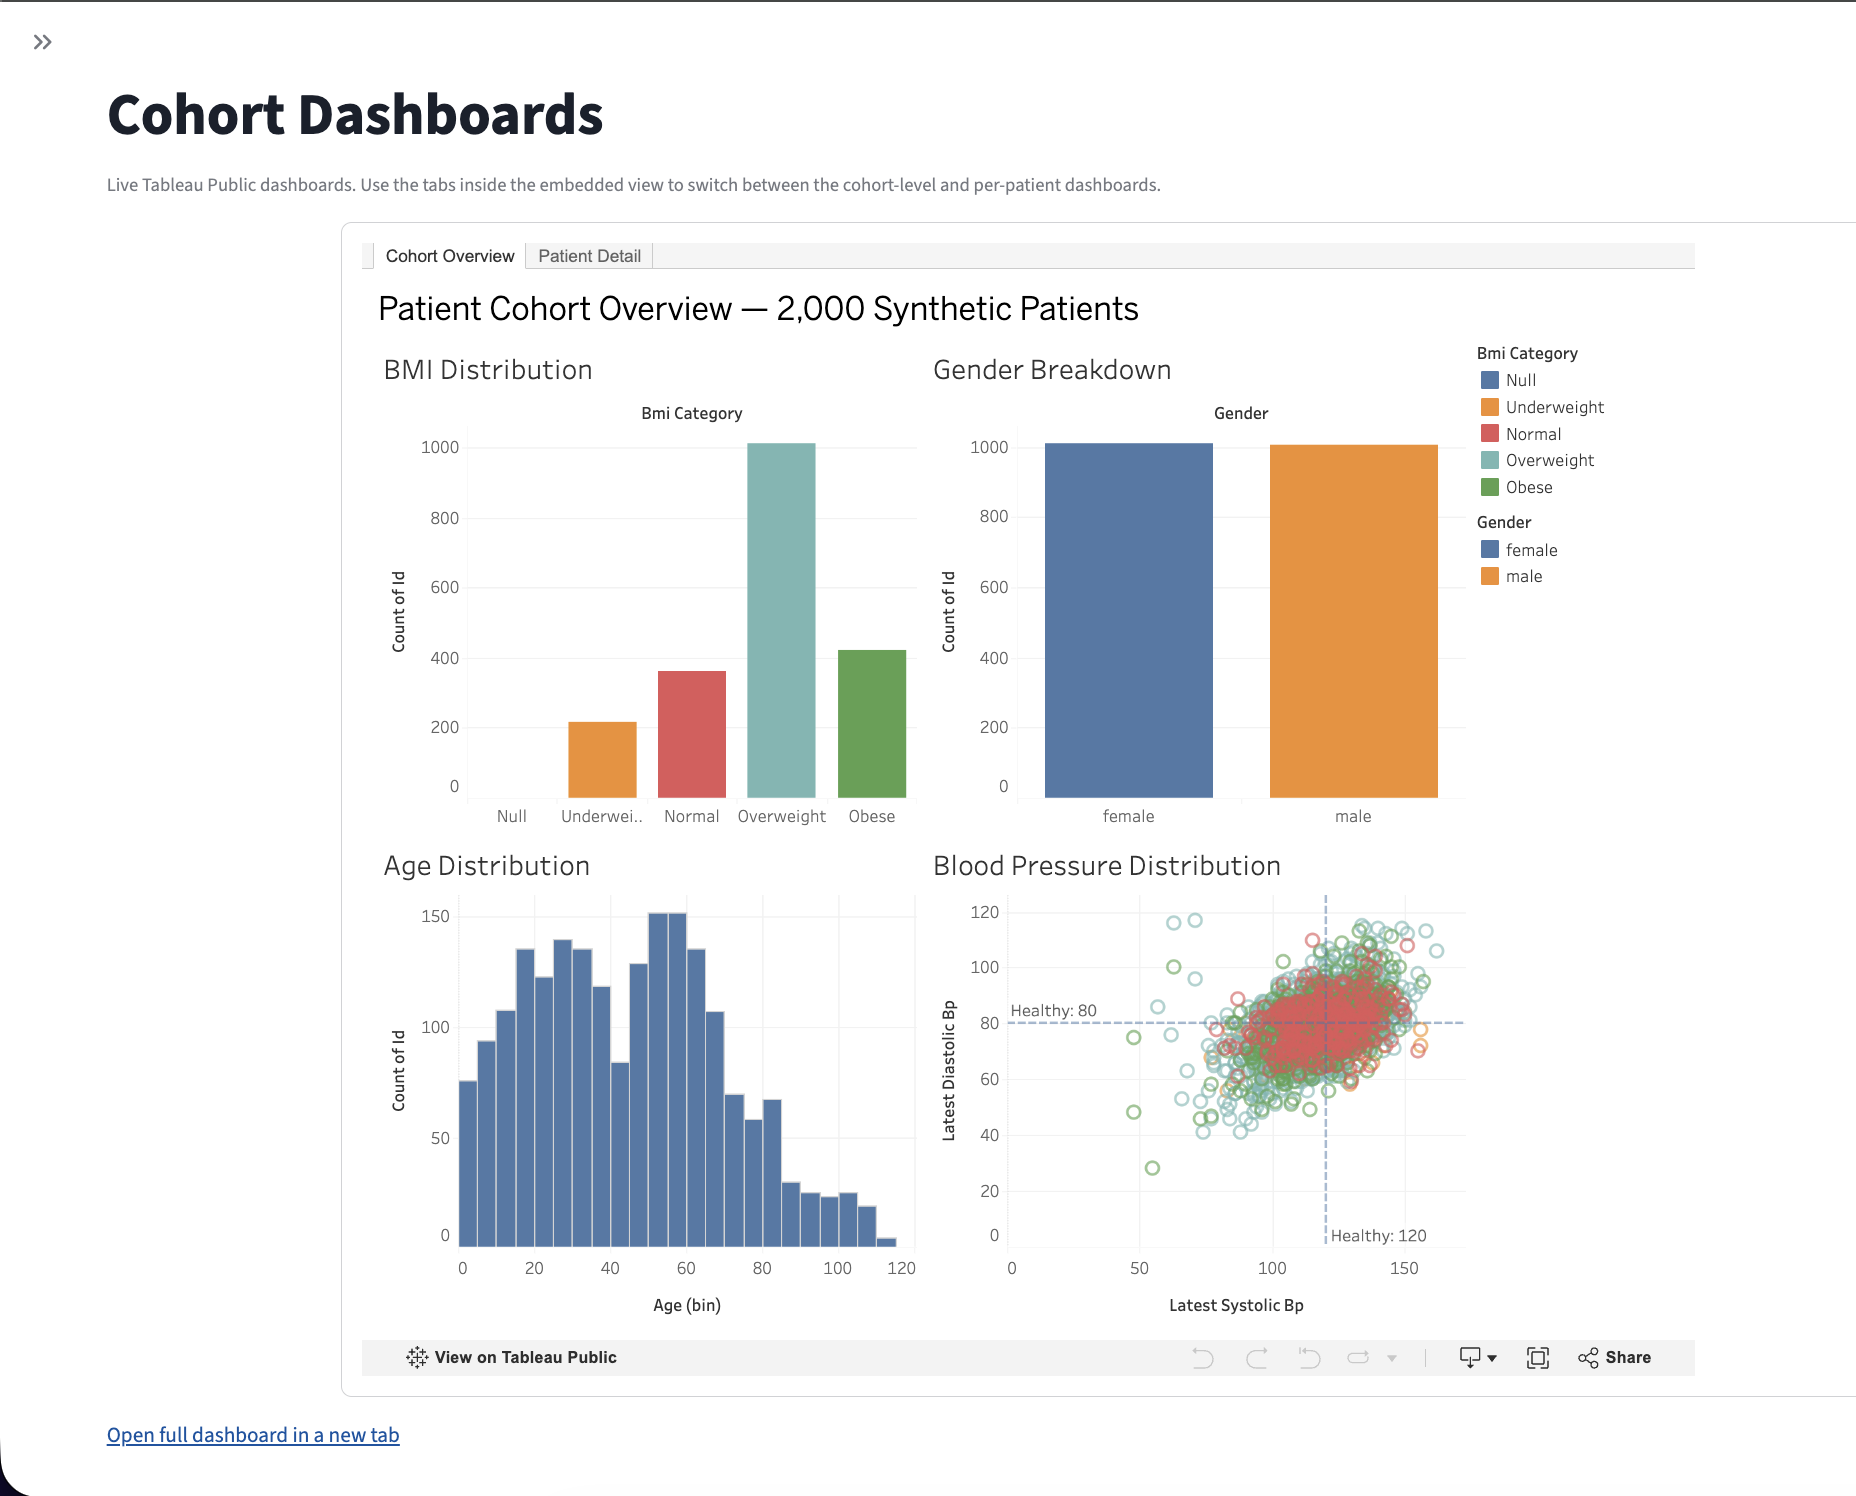

The page's visual inventory and layout, read from the dashboard file:
{"tool":"tableau","page":{"name":"Cohort Overview","canvas":[1000,800],"ordinal":0},"visuals":[{"type":"title","box":[8,8,984,39]},{"type":"worksheet","title":"BMI Distribution","mark":"Automatic","rows":["id"],"cols":["bmi_category"],"box":[8,47,412,372.5]},{"type":"worksheet","title":"Gender Breakdown","mark":"Automatic","rows":["id"],"cols":["gender"],"box":[420,47,412,372.5]},{"type":"legend","title":"BMI Distribution","param":"[federated.1u52m7l0v21mnk147jdbi1of3flw].[none:bmi_category:nk]","box":[832,47,160,126]},{"type":"legend","title":"Gender Breakdown","param":"[federated.1u52m7l0v21mnk147jdbi1of3flw].[none:gender:nk]","box":[832,173,160,66]},{"type":"worksheet","title":"Age Distribution","mark":"Automatic","rows":["id"],"cols":["Age (bin)"],"box":[8,419.5,412,372.5]},{"type":"worksheet","title":"Blood Pressure Distribution","mark":"Automatic","rows":["latest_diastolic_bp"],"cols":["latest_systolic_bp"],"box":[420,419.5,412,372.5]}]}

Visuals, with their boxes on the page's 1000x800 design canvas (x1, y1, x2, y2). These are canvas units, not pixel positions in the 1856x1496 screenshot, which may show the page scaled, cropped or inside an application window:
title: crop(8, 8, 992, 47)
"BMI Distribution" worksheet: crop(8, 47, 420, 420)
"Gender Breakdown" worksheet: crop(420, 47, 832, 420)
"BMI Distribution" legend: crop(832, 47, 992, 173)
"Gender Breakdown" legend: crop(832, 173, 992, 239)
"Age Distribution" worksheet: crop(8, 420, 420, 792)
"Blood Pressure Distribution" worksheet: crop(420, 420, 832, 792)
